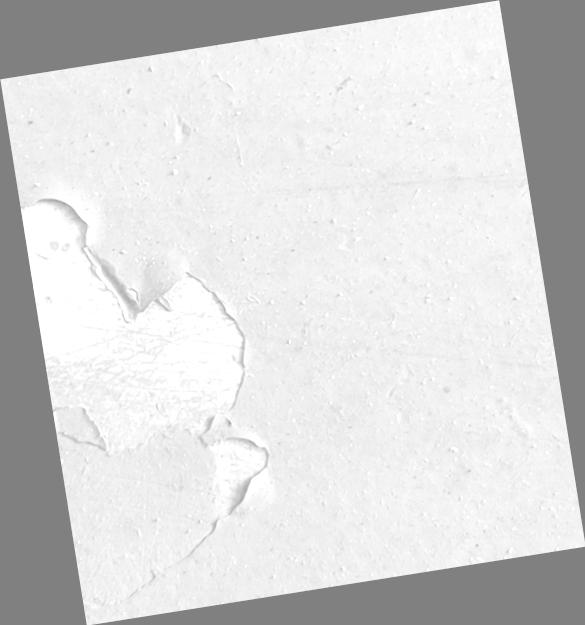paint-off: (0, 1, 585, 625)
